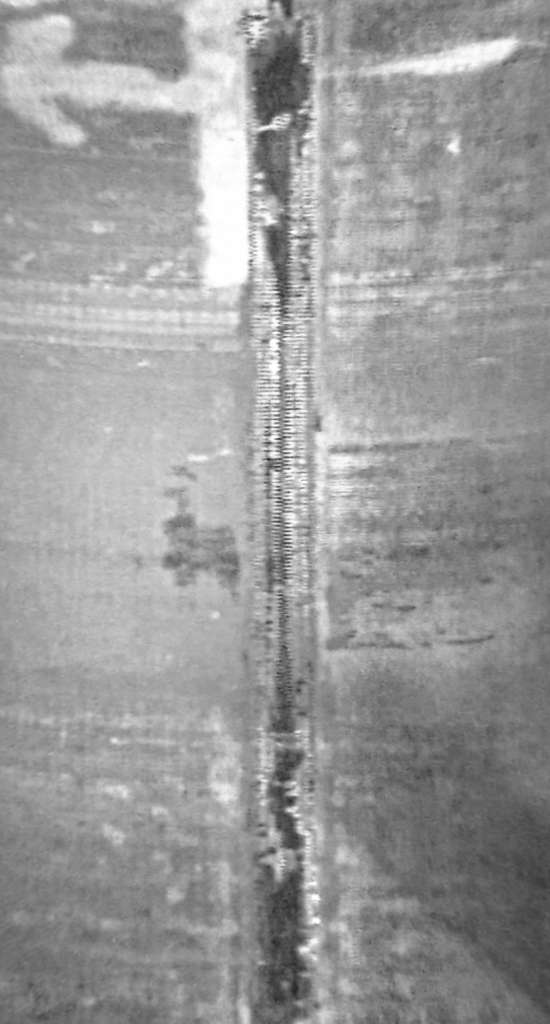splice: (236, 1, 339, 1024)
